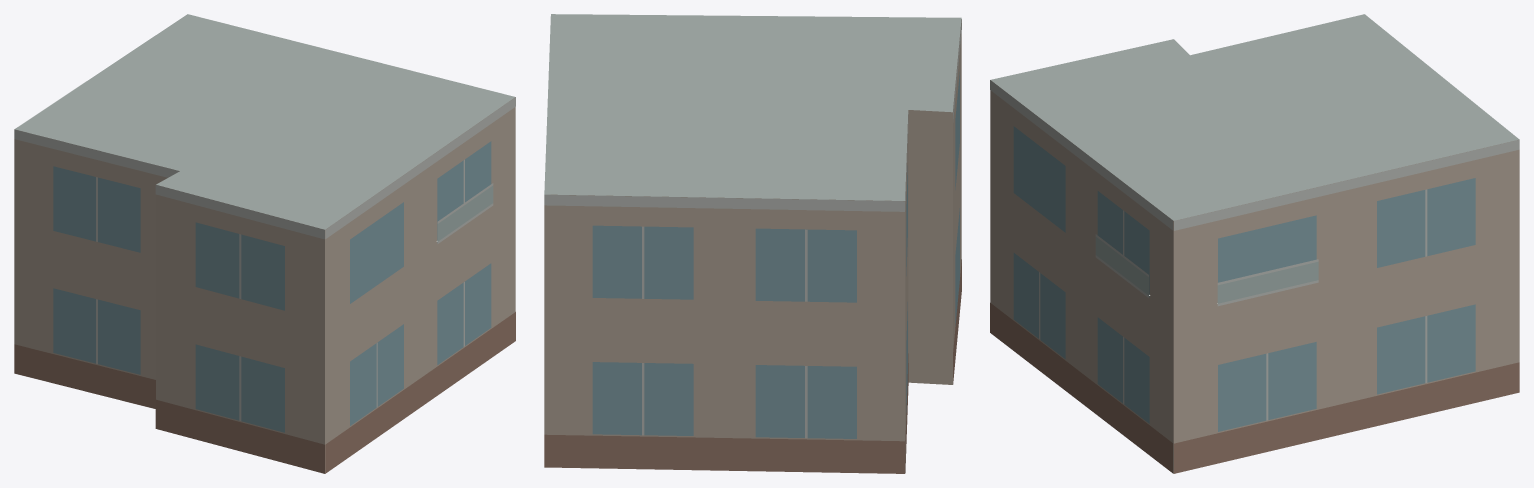
The model's file is survey-upis-32793660.glb.
The picture shows the model from 3 angles, left to right: view 1: azimuth 30°, elevation 25°; view 2: azimuth 150°, elevation 25°; view 3: azimuth 270°, elevation 25°; orthographic projection. The views are drawn at different scales.
Parts seen in each view (by area): view 1: survey-upis-32793660.tmp; view 2: survey-upis-32793660.tmp; view 3: survey-upis-32793660.tmp.
Part boxes in pixels (bbox=[...]): survey-upis-32793660.tmp: bbox=[14, 14, 515, 473]; survey-upis-32793660.tmp: bbox=[544, 14, 961, 473]; survey-upis-32793660.tmp: bbox=[990, 14, 1519, 473].
Size of the model in its own units: 10.71 by 6.1 by 11.58.
